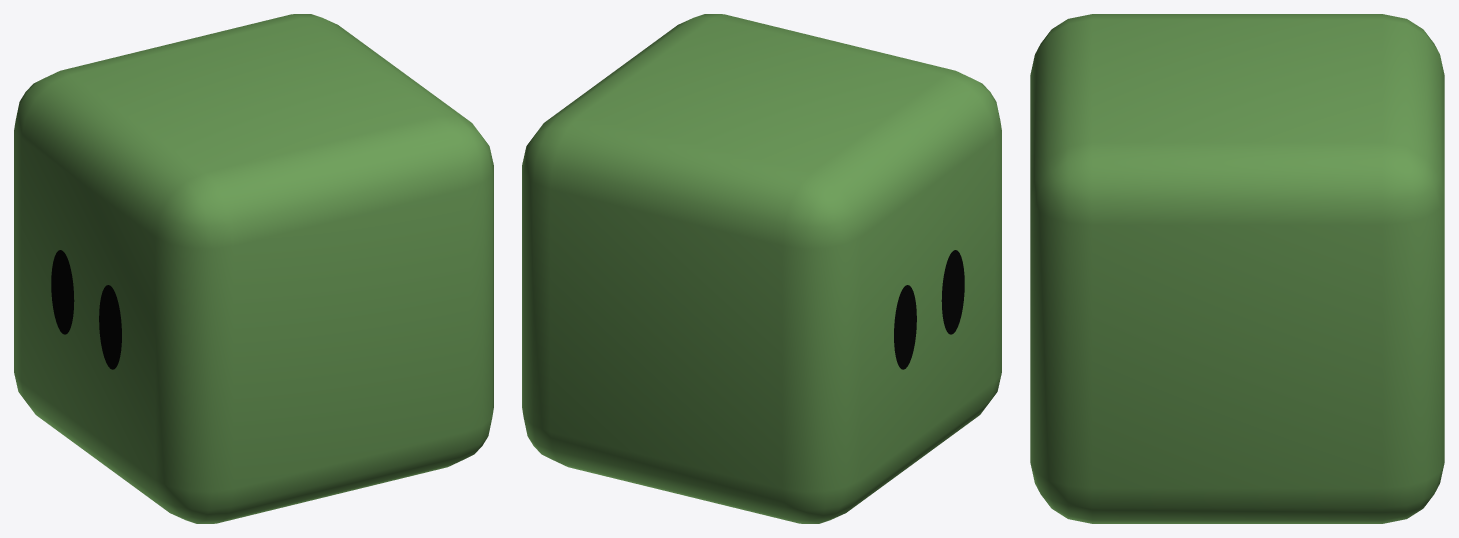
File: herbivore.fbx
3 views of the same model, side by side, from view 1: azimuth 30°, elevation 25°; view 2: azimuth 150°, elevation 25°; view 3: azimuth 270°, elevation 25° (orthographic). The views are drawn at different scales.
Parts seen in each view (by area): view 1: Cube, Circle.001, Circle; view 2: Cube, Circle, Circle.001; view 3: Cube.
Boxes of the visible parts, box(x1,y1,x2,y2) form: Cube: box(14, 14, 493, 523); Circle.001: box(99, 285, 121, 369); Circle: box(51, 250, 74, 334); Cube: box(522, 14, 1001, 523); Circle: box(894, 285, 916, 369); Circle.001: box(941, 250, 964, 334); Cube: box(1030, 14, 1444, 523).
Bounding box in the file's own units: 201 × 200 × 200.
